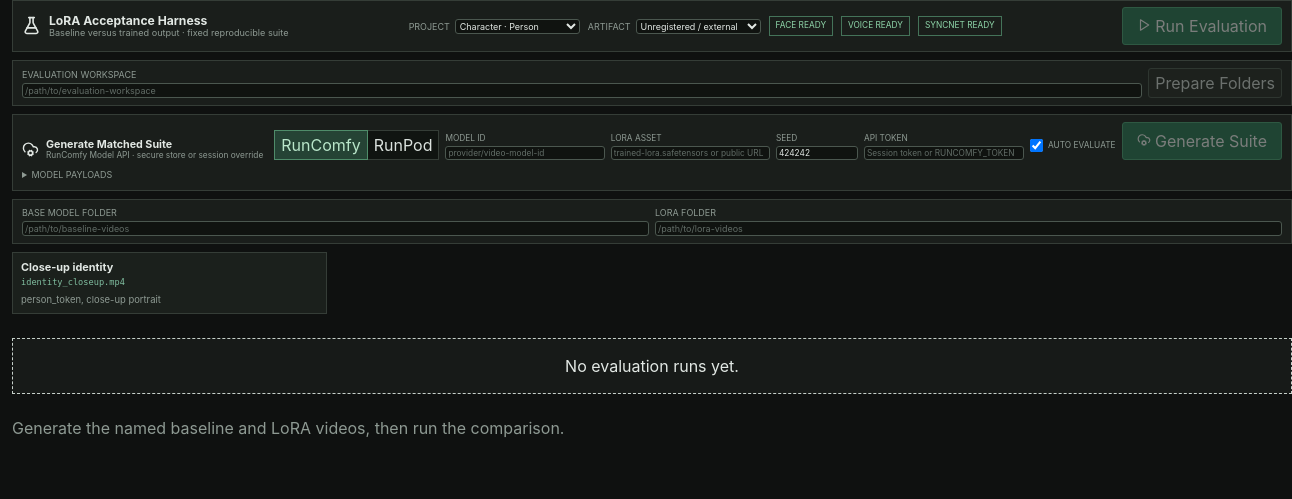
Scenario: EvaluationHarness › queues the full matched RunComfy generation suite without retaining the token
Type "/tmp/evaluation" into the field named "Evaluation workspace folder". click: (582, 90)
box: [22, 83, 1142, 98]
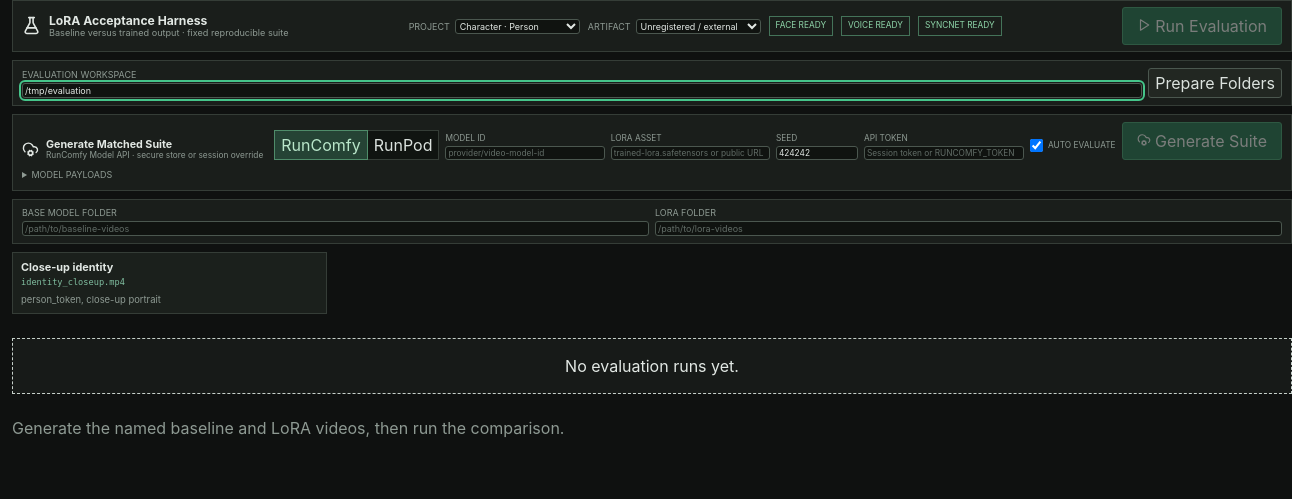
Type "provider/video-model" into the field named "RunComfy video model ID". click: (525, 153)
box: [446, 146, 605, 160]
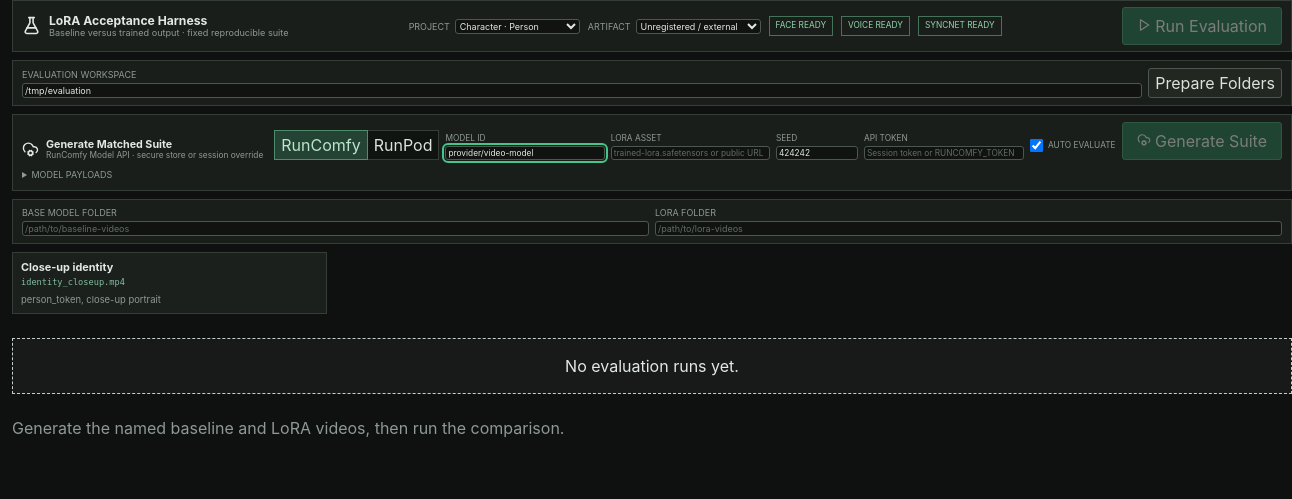
Type "person.safetensors" into the field named "RunComfy LoRA asset". click: (690, 153)
box: [611, 146, 770, 160]
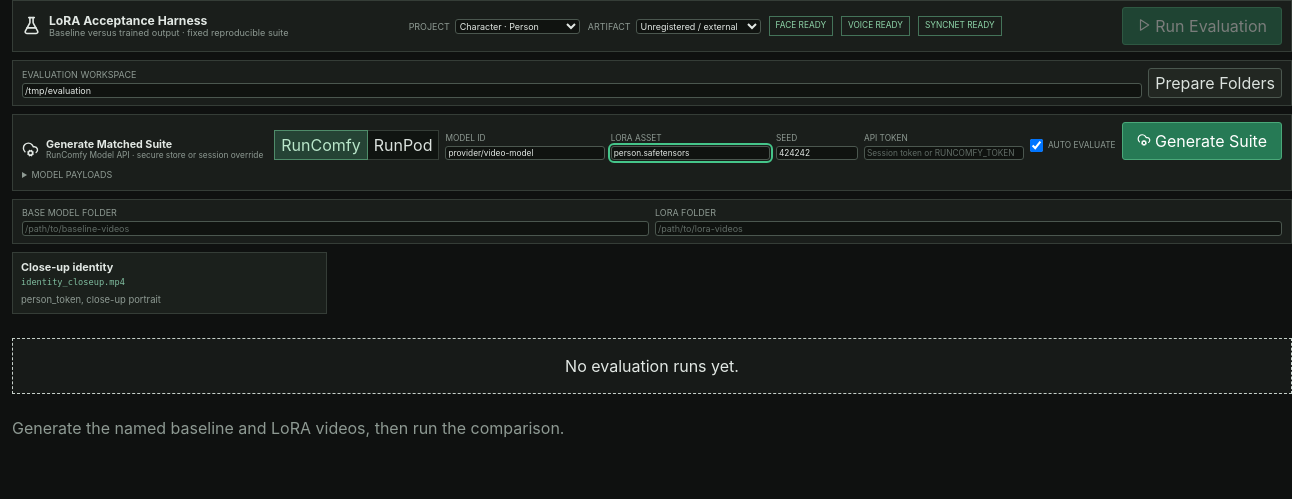
Type "session-secret" into the password field named "RunComfy benchmark API token". click: (944, 153)
box: [864, 146, 1024, 160]
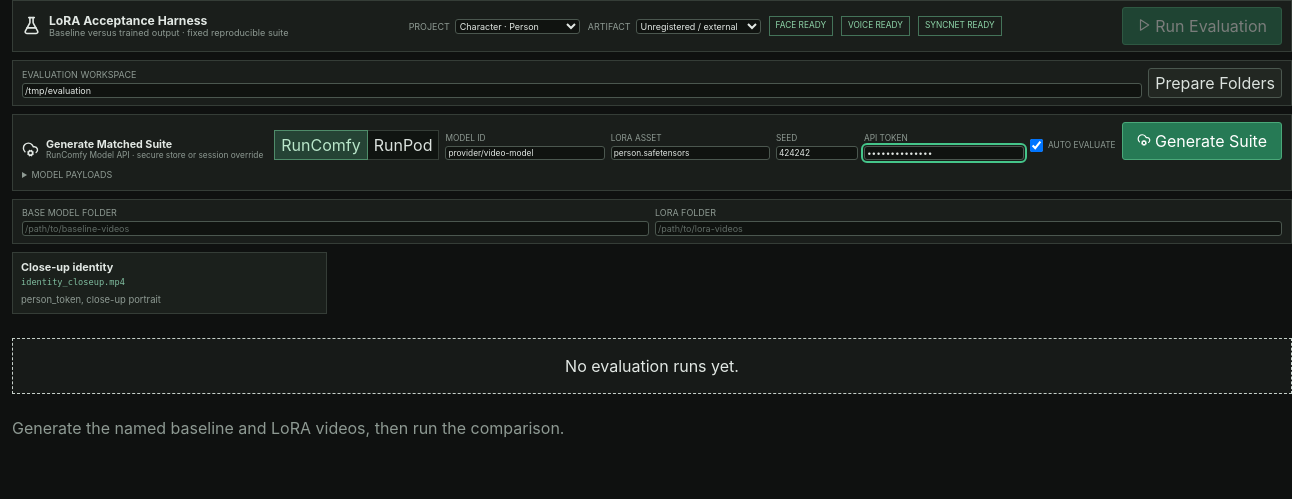
Click the button "Generate Suite". click: (1202, 141)
box: [1122, 122, 1282, 160]
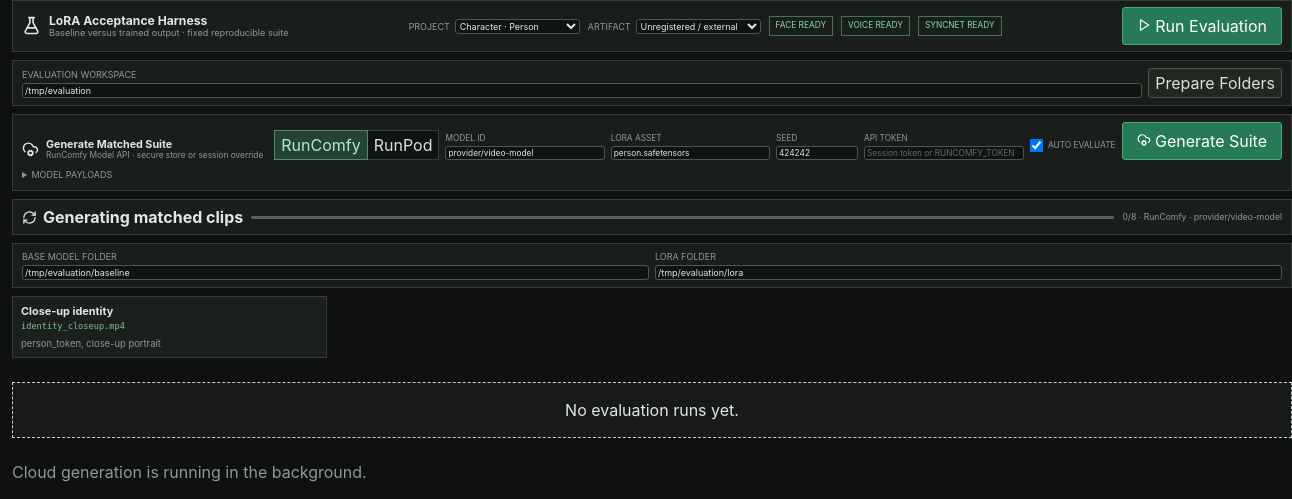
Expected: the password field named "RunComfy benchmark API token" is empty, [864, 146, 1024, 160]
Expected: the text "Generating matched clips" is shown, [43, 207, 243, 227]
